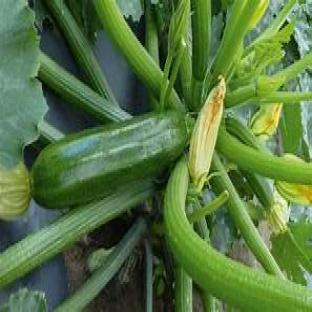Zucchini: (164, 159, 311, 311), (31, 111, 189, 207)
